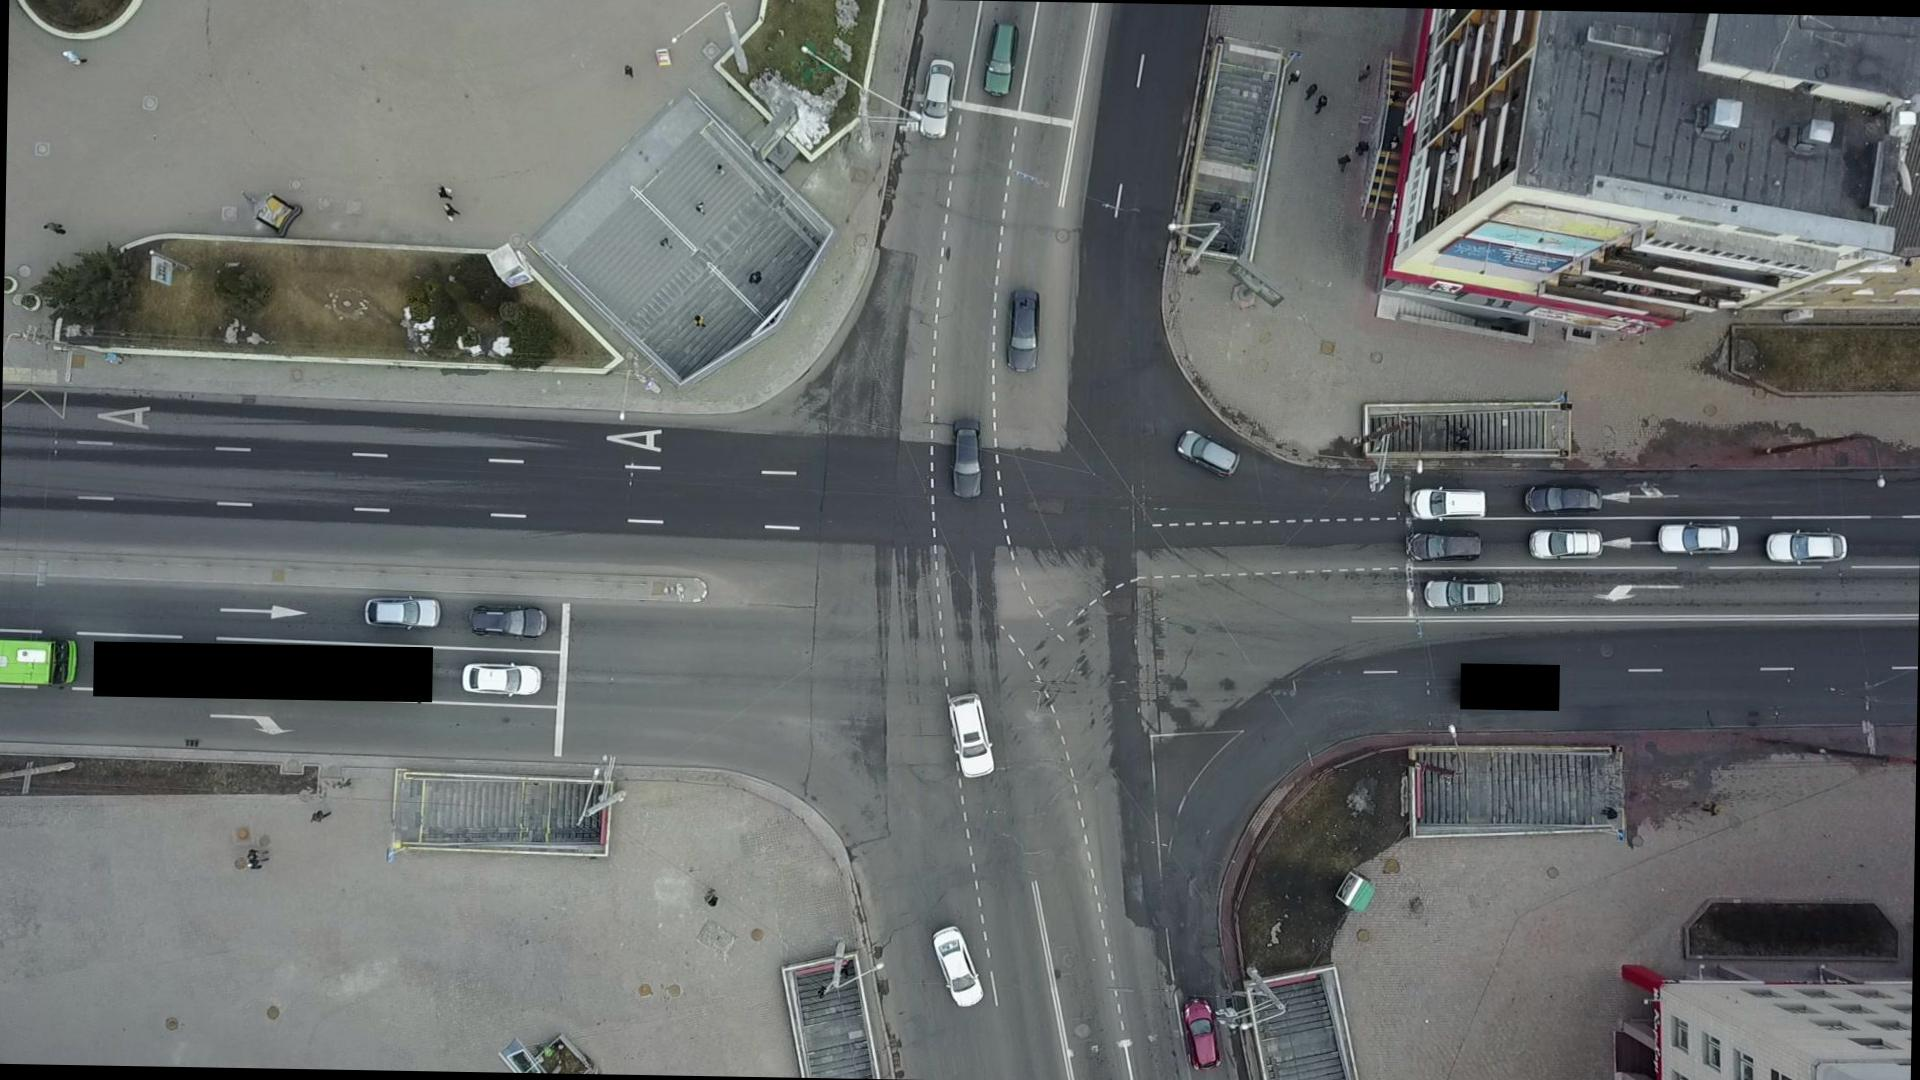vehicle: (930, 923, 986, 1009), (944, 690, 997, 778), (1174, 427, 1245, 481), (460, 658, 545, 699), (1763, 527, 1850, 567), (1408, 483, 1487, 525), (1655, 518, 1742, 556), (1004, 287, 1042, 372), (1180, 996, 1224, 1069), (361, 593, 442, 632), (1404, 526, 1485, 564), (468, 600, 550, 637), (949, 417, 986, 498), (1422, 575, 1503, 612), (1526, 526, 1606, 560), (1523, 481, 1605, 514)
